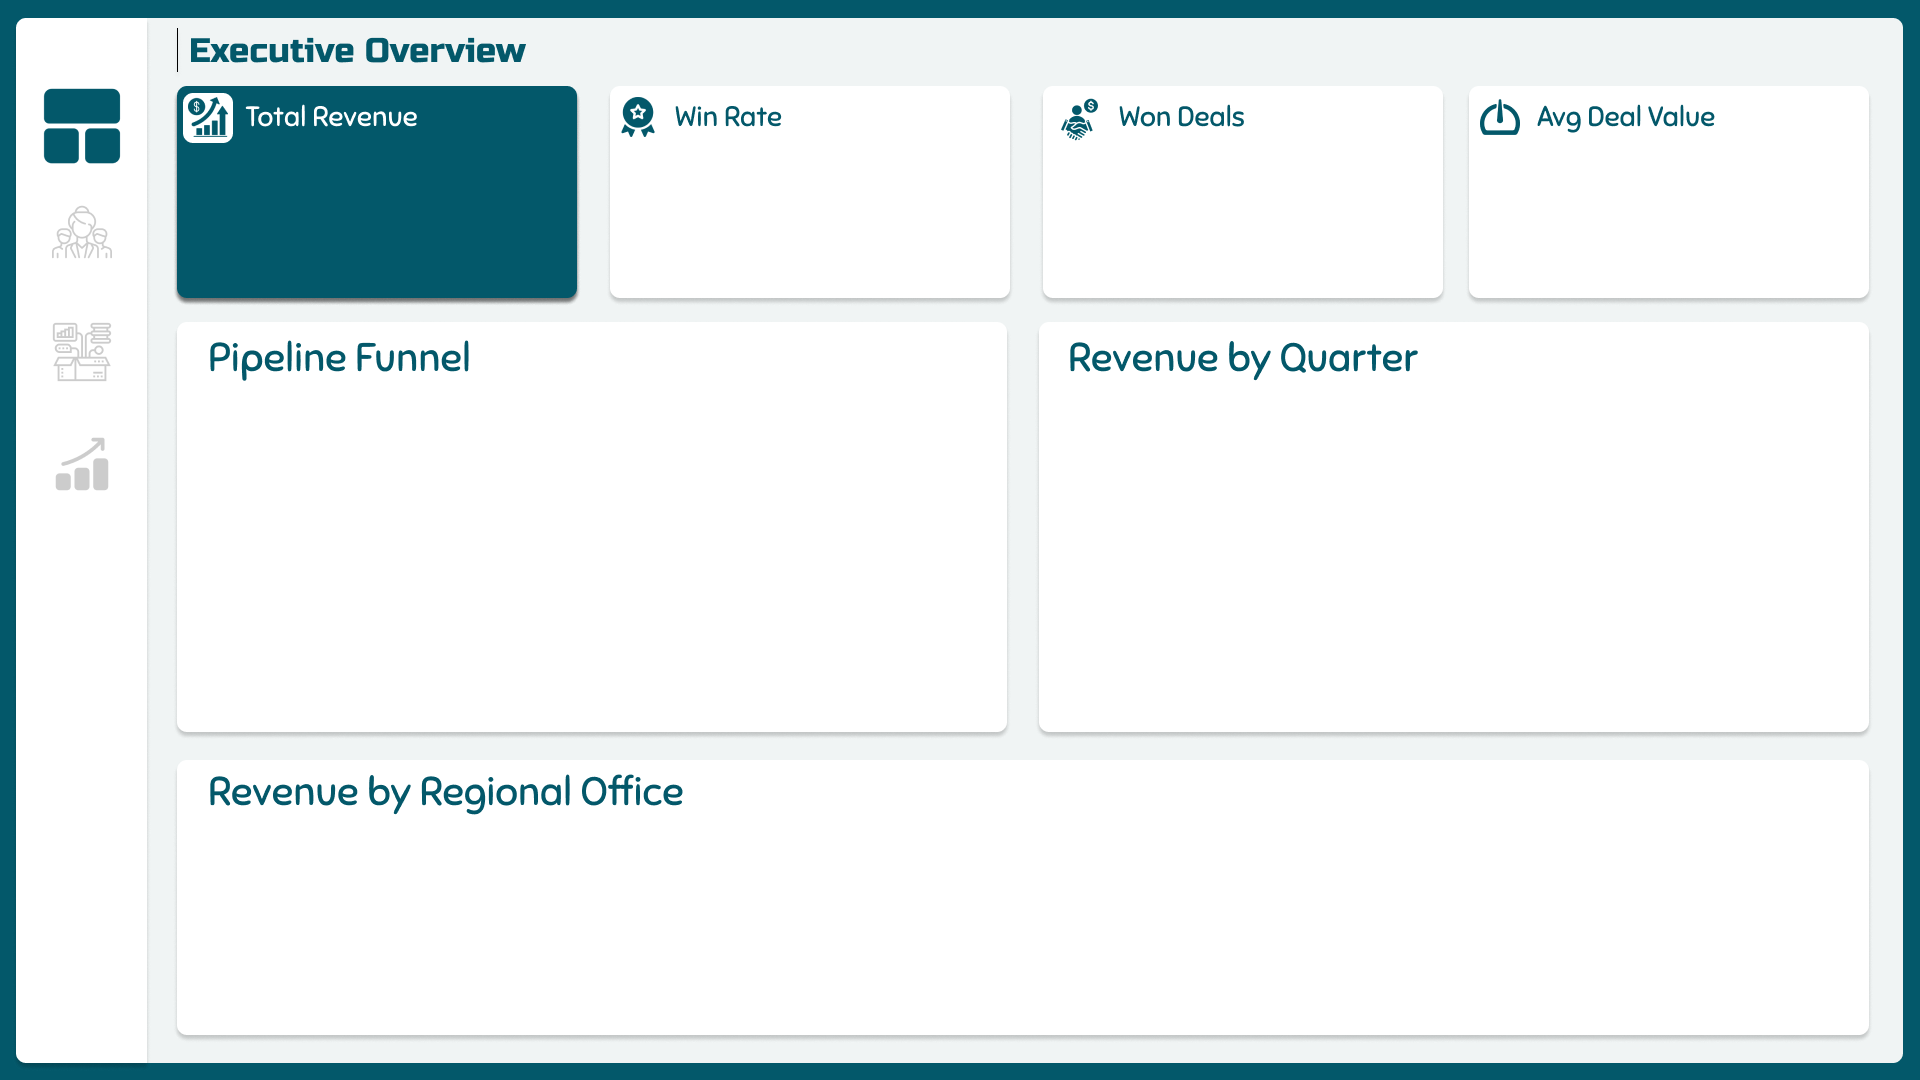

What the dashboard file says about the page in this screenshot:
{"tool":"powerbi","page":{"name":"Executive Overview","canvas":[1920,1080],"ordinal":0},"visuals":[{"type":"actionButton","box":[35.7,187.9,99.6,80.8],"z":0},{"type":"actionButton","box":[37.6,306.3,99.6,80.8],"z":1000},{"type":"actionButton","box":[35.7,424.7,99.6,80.8],"z":2000},{"type":"cardVisual","fields":{"Data":["sales_pipeline.Total Revenue"]},"box":[223.6,105.2,298.8,163.5],"z":3000},{"type":"cardVisual","fields":{"Data":["sales_pipeline.Win Rate"]},"box":[650.1,105.2,298.8,163.5],"z":4000},{"type":"cardVisual","fields":{"Data":["sales_pipeline.Won Deals"]},"box":[1103,105.2,298.8,163.5],"z":5000},{"type":"cardVisual","fields":{"Data":["sales_pipeline.Avg Deal Value"]},"box":[1518.3,105.2,298.8,163.5],"z":6000},{"type":"funnel","fields":{"Category":["sales_pipeline.deal_stage"],"Y":["CountNonNull(sales_pipeline.deal_stage)"]},"box":[199.2,372.1,774.2,334.5],"z":7000},{"type":"stackedAreaChart","fields":{"Y":["sales_pipeline.Total Revenue"],"Category":["sales_pipeline.year_quarter"]},"box":[1072.9,387.1,766.6,336.3],"z":8000},{"type":"columnChart","fields":{"Category":["sales_teams.regional_office"],"Y":["sales_pipeline.Total Revenue"]},"box":[199.2,815.5,1653.6,202.9],"z":9000},{"type":"textbox","box":[894.4,139,78.9,109],"z":10000}]}

Visuals, with their boxes on the page's 1920x1080 design canvas (x1, y1, x2, y2). These are canvas units, not pixel positions in the 1920x1080 screenshot, which may show the page scaled, cropped or inside an application window:
actionButton: box=[36, 188, 135, 269]
actionButton: box=[38, 306, 137, 387]
actionButton: box=[36, 425, 135, 506]
cardVisual - sales_pipeline.Total Revenue: box=[224, 105, 522, 269]
cardVisual - sales_pipeline.Win Rate: box=[650, 105, 949, 269]
cardVisual - sales_pipeline.Won Deals: box=[1103, 105, 1402, 269]
cardVisual - sales_pipeline.Avg Deal Value: box=[1518, 105, 1817, 269]
funnel - sales_pipeline.deal_stage x CountNonNull(sales_pipeline.deal_stage): box=[199, 372, 973, 707]
stackedAreaChart - sales_pipeline.Total Revenue x sales_pipeline.year_quarter: box=[1073, 387, 1840, 723]
columnChart - sales_teams.regional_office x sales_pipeline.Total Revenue: box=[199, 816, 1853, 1018]
textbox: box=[894, 139, 973, 248]
